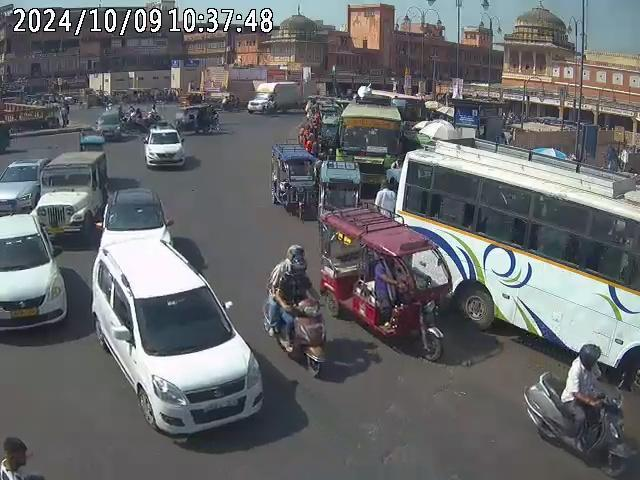auto: (316, 210, 450, 360), (269, 140, 320, 220)
bus: (382, 144, 639, 394), (335, 91, 403, 183)
car: (90, 237, 265, 436), (0, 212, 67, 332), (34, 149, 110, 242), (102, 190, 174, 244), (142, 125, 186, 169)
helmet: (578, 342, 604, 369), (288, 254, 308, 275), (286, 245, 307, 258)
lorry: (246, 81, 300, 115)
person: (375, 180, 397, 216), (299, 124, 316, 151), (60, 100, 70, 127)
scooty-rider: (522, 343, 629, 472), (263, 244, 327, 373)
